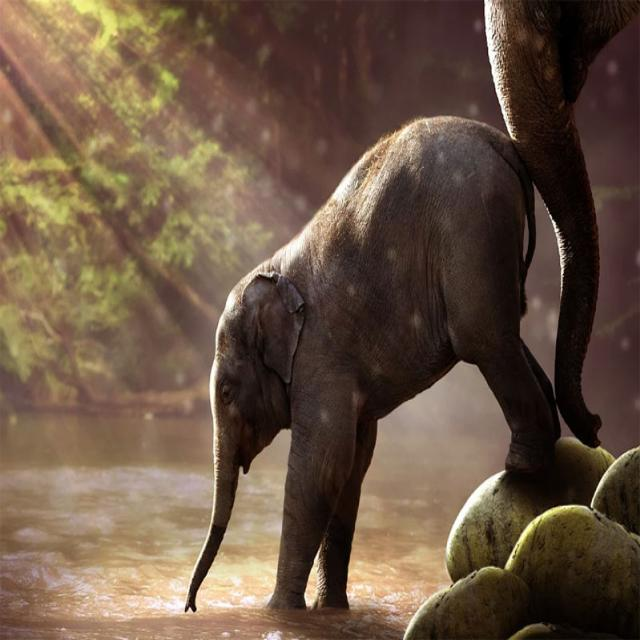Elephant: (138, 72, 590, 640)
